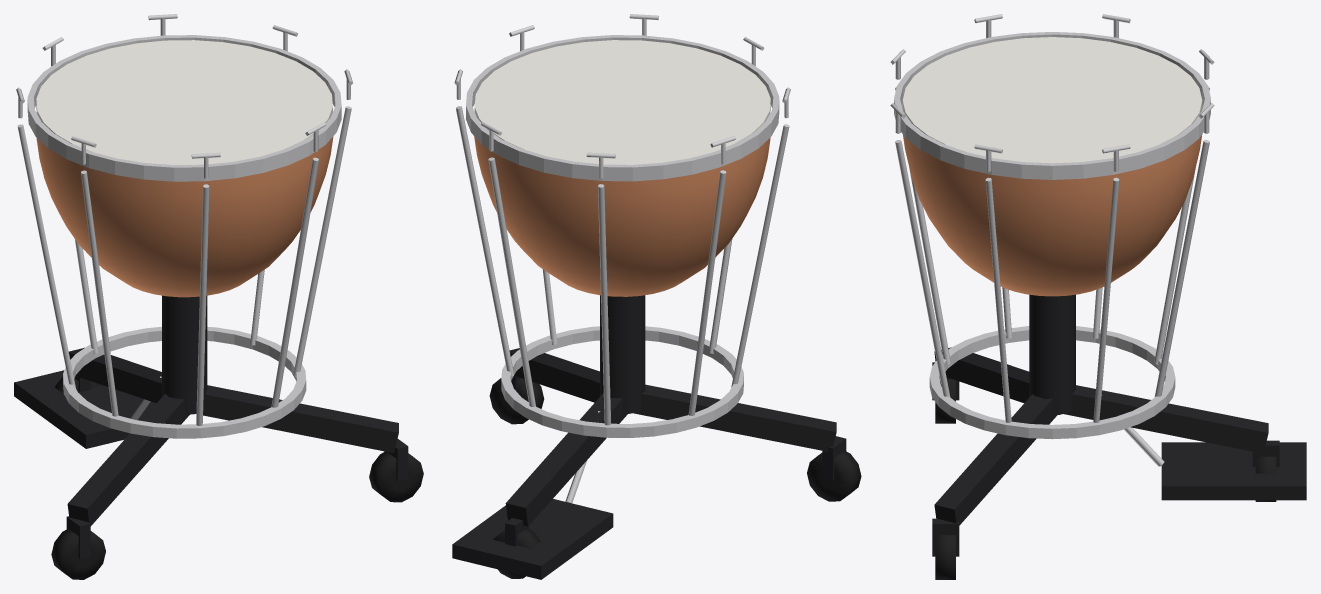
File: timpani-23.glb
3 views of the same model, side by side, from view 1: azimuth 30°, elevation 25°; view 2: azimuth 150°, elevation 25°; view 3: azimuth 270°, elevation 25° (orthographic).
Parts seen in each view (by area): view 1: head, metal, copper, frame, rubber; view 2: head, metal, copper, frame, rubber; view 3: head, metal, copper, frame, rubber.
Boxes of the visible parts, x1=… form: head: x1=36, y1=40, x2=332, y2=164; metal: x1=16, y1=14, x2=352, y2=438; copper: x1=36, y1=136, x2=333, y2=297; frame: x1=14, y1=295, x2=408, y2=558; rubber: x1=51, y1=376, x2=423, y2=579; head: x1=474, y1=40, x2=770, y2=164; metal: x1=454, y1=14, x2=790, y2=503; copper: x1=474, y1=109, x2=772, y2=296; frame: x1=452, y1=295, x2=846, y2=579; rubber: x1=489, y1=378, x2=861, y2=578; head: x1=902, y1=37, x2=1202, y2=163; metal: x1=890, y1=14, x2=1214, y2=466; copper: x1=903, y1=134, x2=1202, y2=296; frame: x1=932, y1=294, x2=1306, y2=556; rubber: x1=935, y1=378, x2=1276, y2=579.
Bounding box in the file's own units: 0.8138 × 0.89 × 0.8032.
